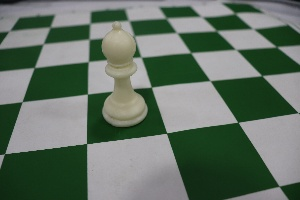white_bishop: (81, 5, 153, 133)
